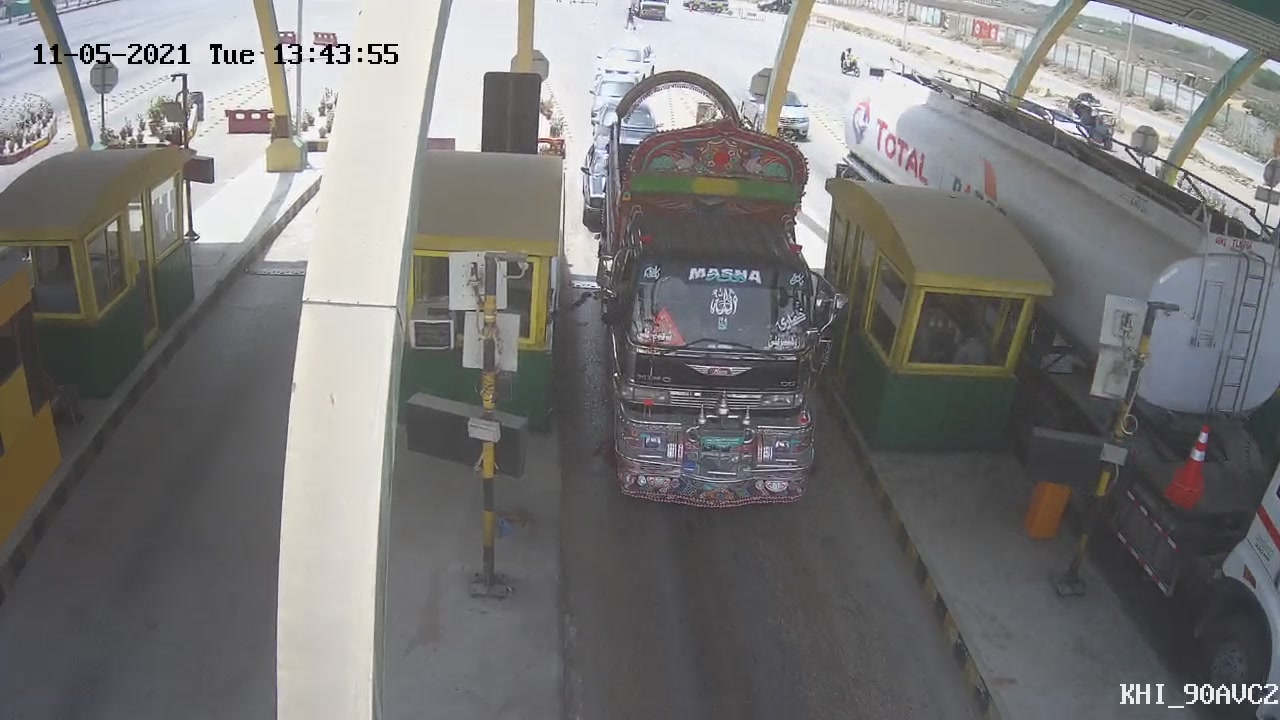F5: (597, 69, 854, 529)
